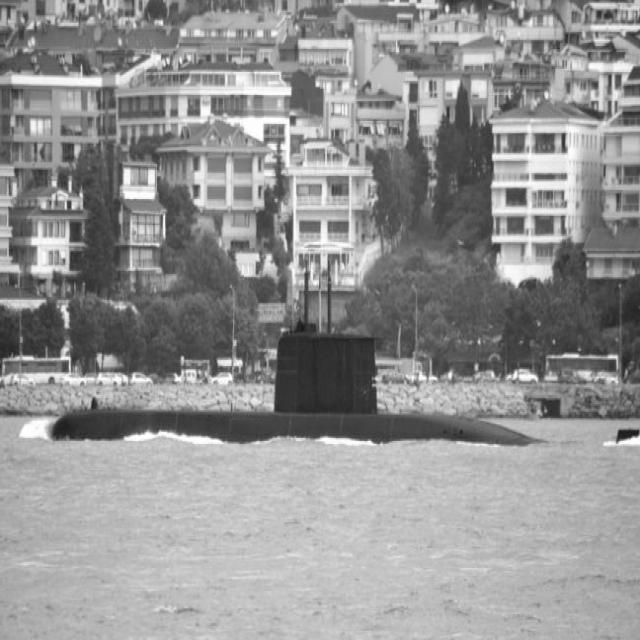submarine: (53, 269, 640, 446)
